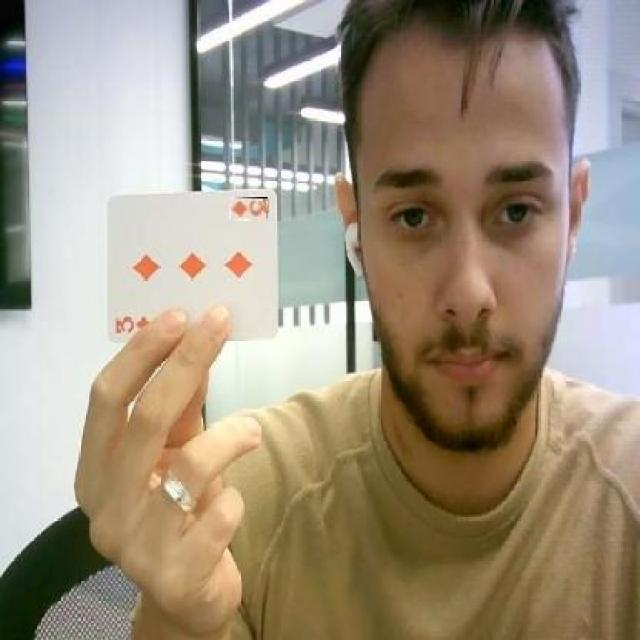3D: (230, 197, 268, 218)
